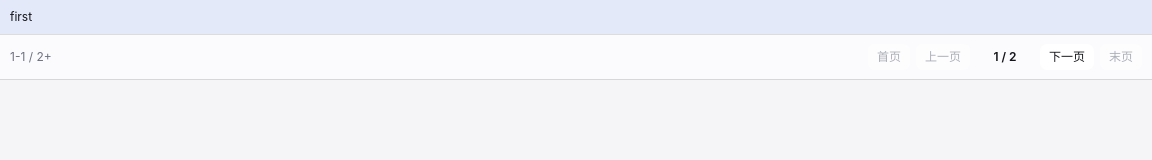
Test case: PaginatedTable › loads the next backend page only after the loaded rows are exhausted
Click the button "下一页".
click(1067, 56)  # box [1040,44,1094,70]
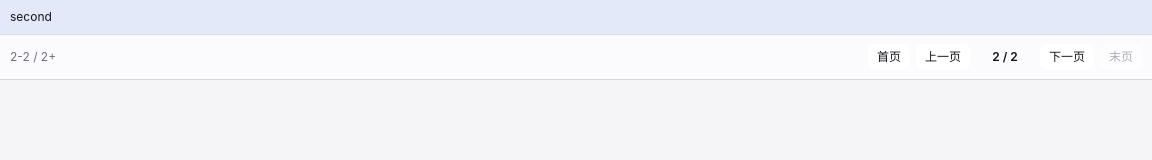
Expected: the text "second" is shown, [0,0,1151,34]
Click the button "下一页".
click(1067, 56)  # box [1040,44,1094,70]
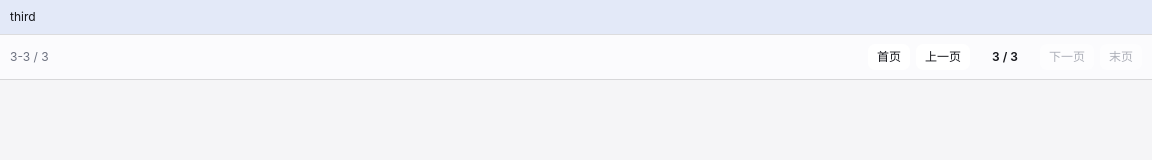
Expected: the text "third" is shown, [0,0,1151,34]
